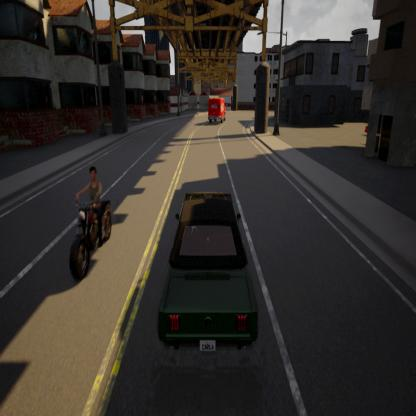Cars: (147, 185, 271, 364), (202, 92, 229, 128)
